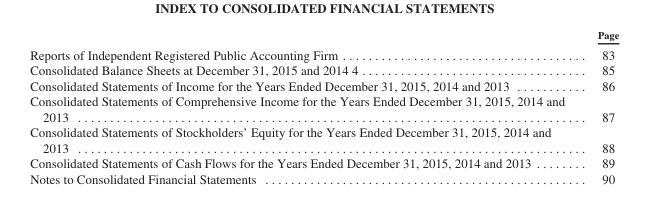table: (29, 28, 618, 185)
table column: (29, 28, 580, 185), (580, 28, 618, 185)
table column header: (29, 28, 618, 43)
table row: (29, 93, 618, 124), (29, 124, 618, 155), (29, 43, 618, 62), (29, 77, 618, 93), (29, 28, 618, 43), (29, 62, 618, 77), (29, 155, 618, 170), (29, 170, 618, 185)
